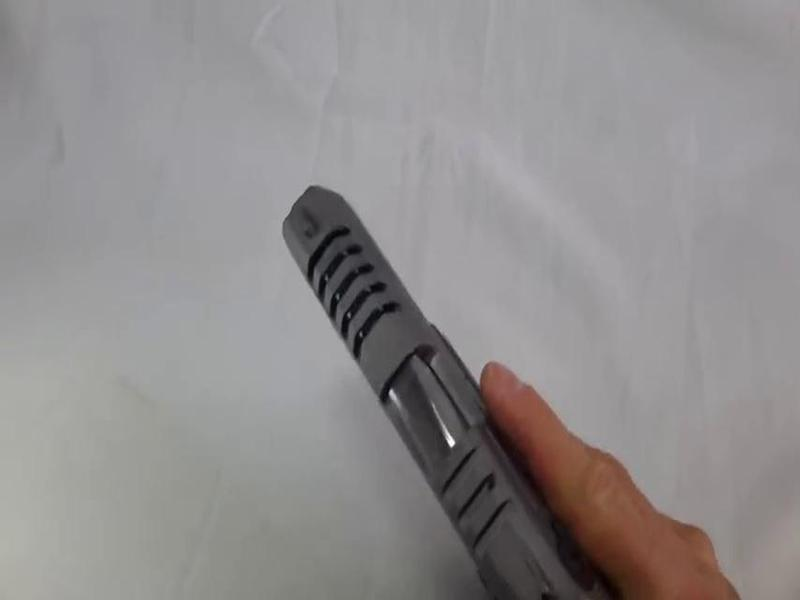Pistola: (272, 166, 663, 599)
